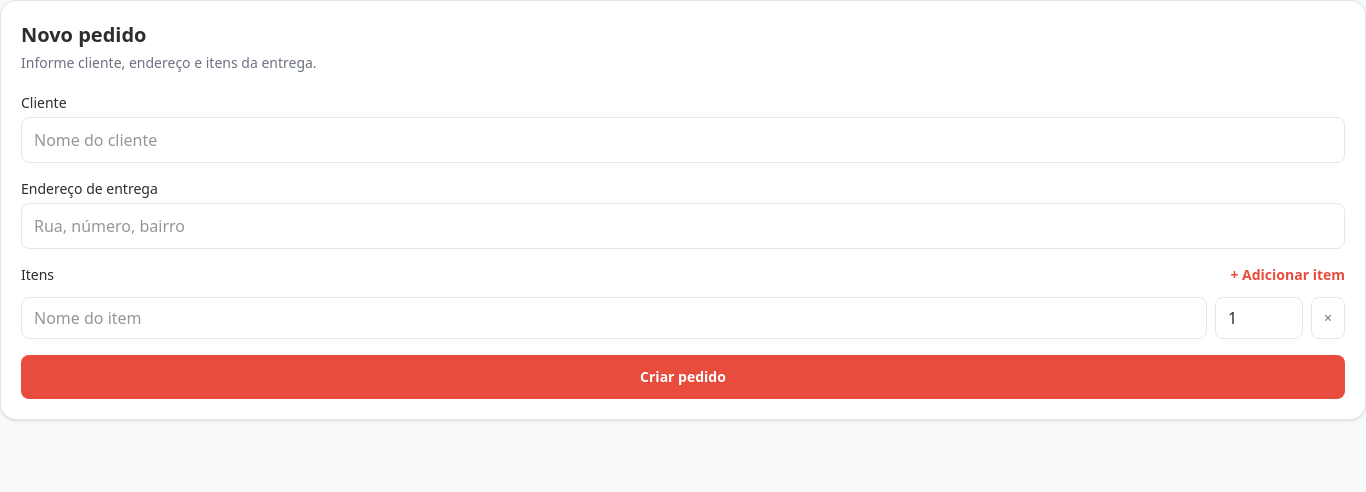
Test: PedidoForm › envia o payload correto e mostra sucesso
The width and height of the screenshot is (1366, 492).
Type "Maria Silva" into the field with placeholder "Nome do cliente" at (683, 140), box left=21, top=117, right=1345, bottom=163
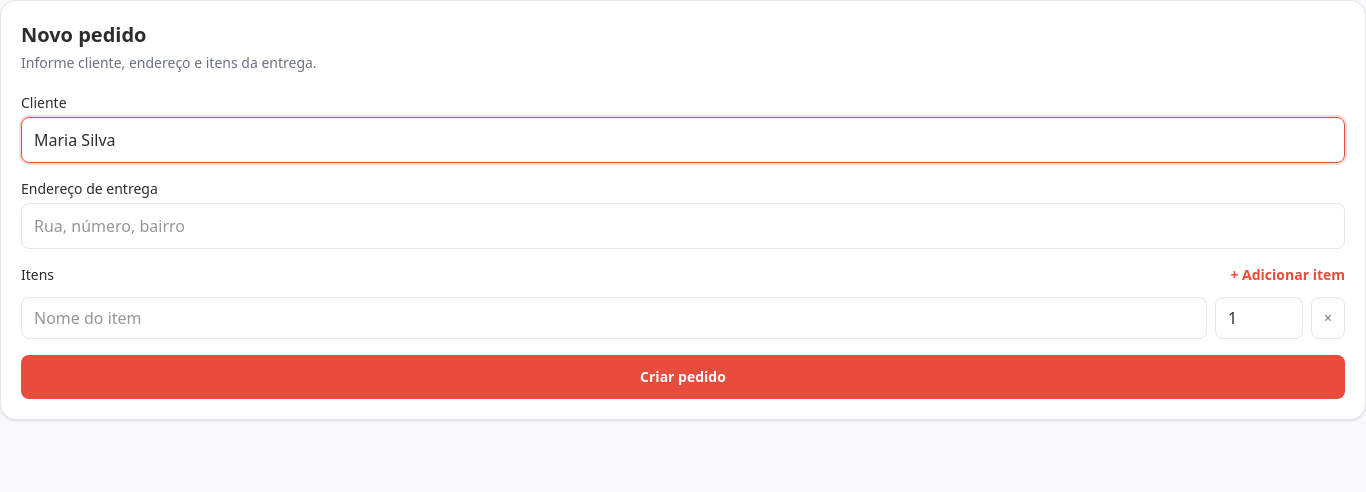
Type "Rua A, 10" into the field with placeholder "Rua, número, bairro" at (683, 226), box left=21, top=203, right=1345, bottom=249
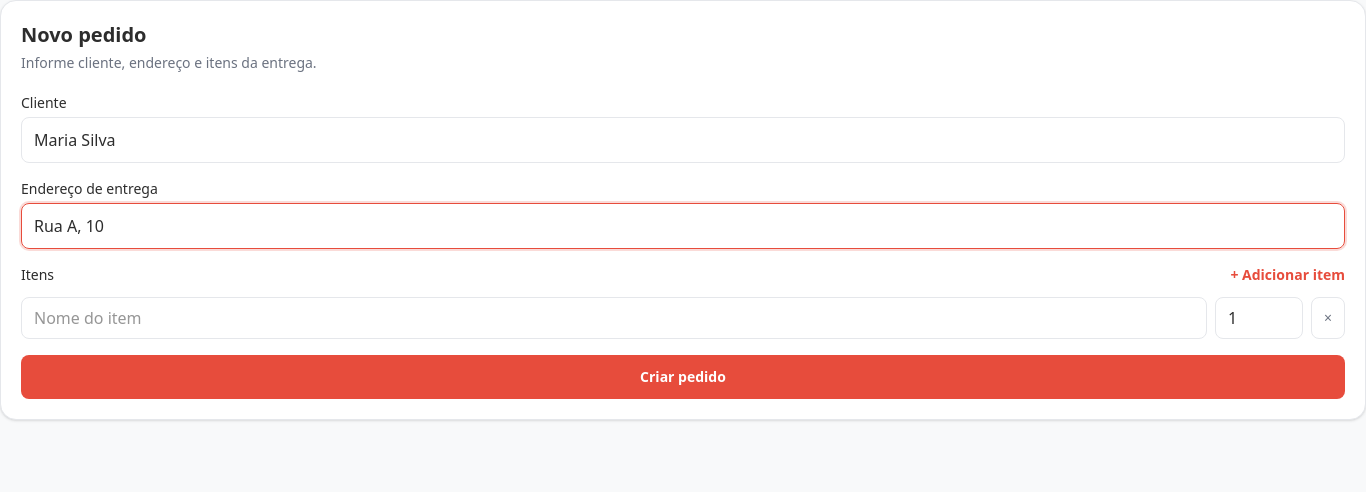
Type "Pizza" into the field with placeholder "Nome do item" at (614, 318), box left=21, top=297, right=1207, bottom=339
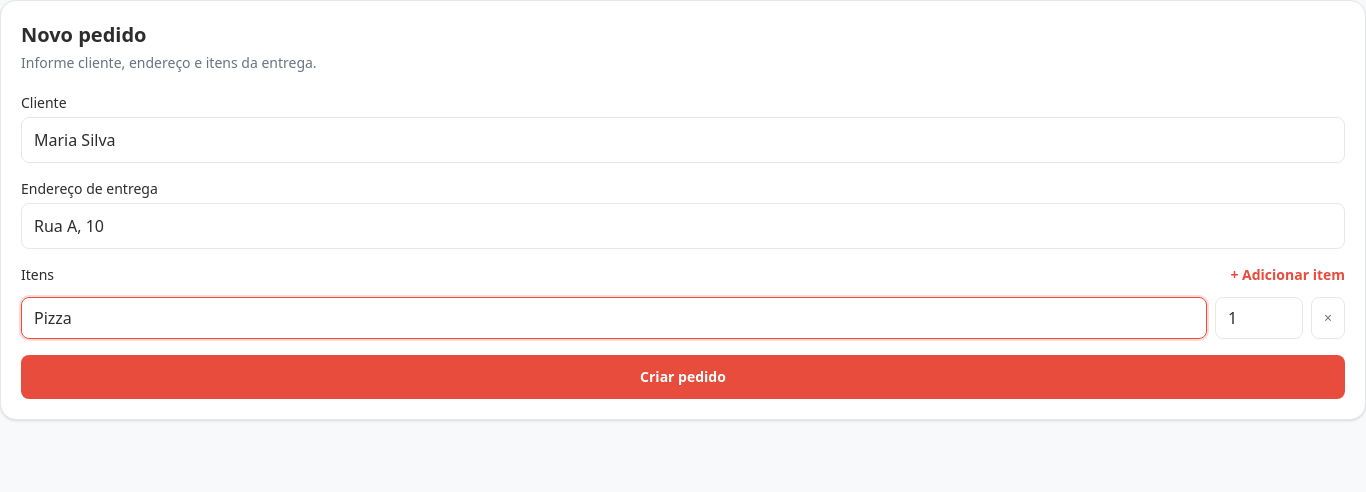
Click the button "Criar pedido" at (683, 377), box left=21, top=355, right=1345, bottom=399
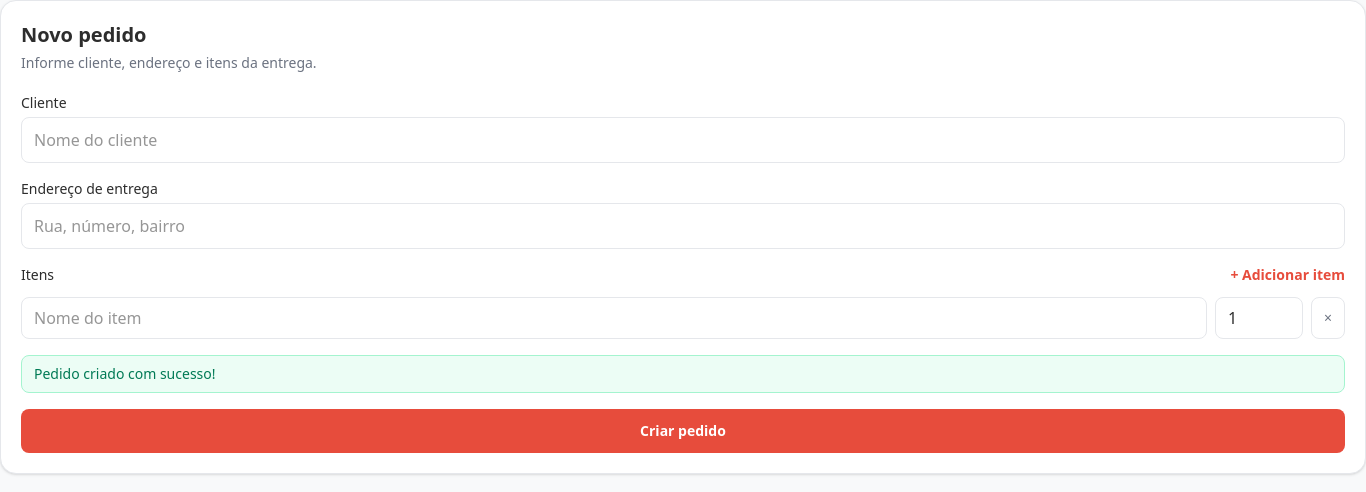
Now the text "Pedido criado com sucesso!" is shown, box left=21, top=355, right=1345, bottom=393
